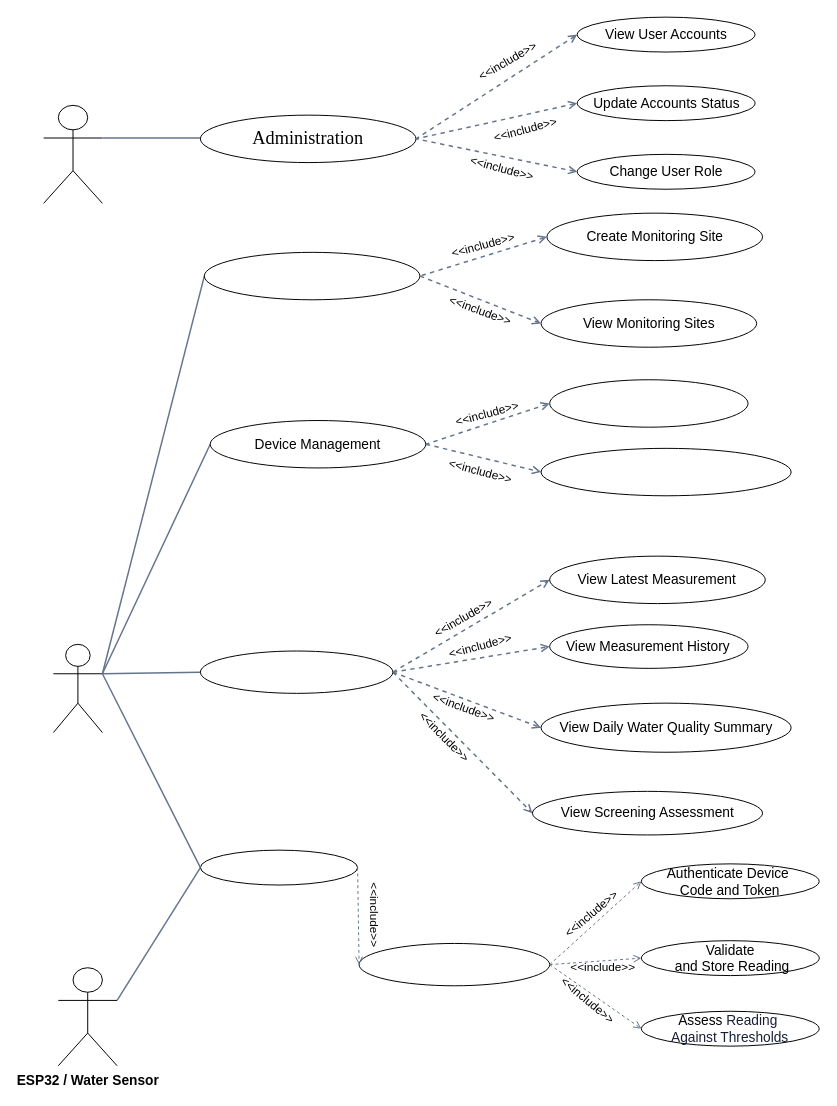
The diagram is 837 pixels wide and 1106 high, and some of its shapes have lost their labels. Here are the shapes that lost their labels. From the top down, the centre of each, then its label:
(x=72, y=153): Admin
(x=311, y=275): Site Management
(x=648, y=403): Register IoT Device
(x=665, y=471): View Devices / Last Seen
(x=77, y=688): User
(x=296, y=671): Water Quality Summary
(x=278, y=867): Measurement Ingestion
(x=454, y=964): Submit Measurement via HTTP API
